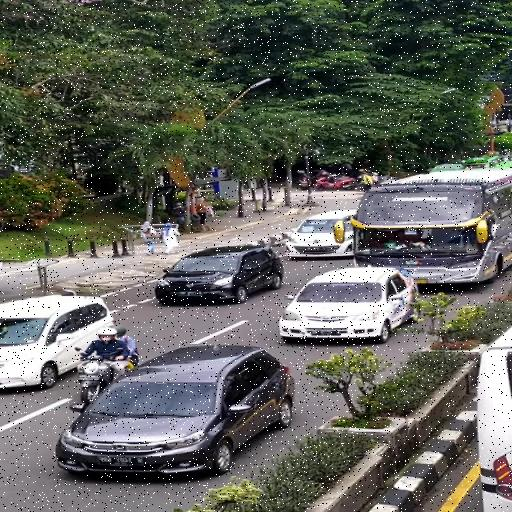Helmet: (93, 327, 118, 344)
Motor: (73, 356, 112, 402)
